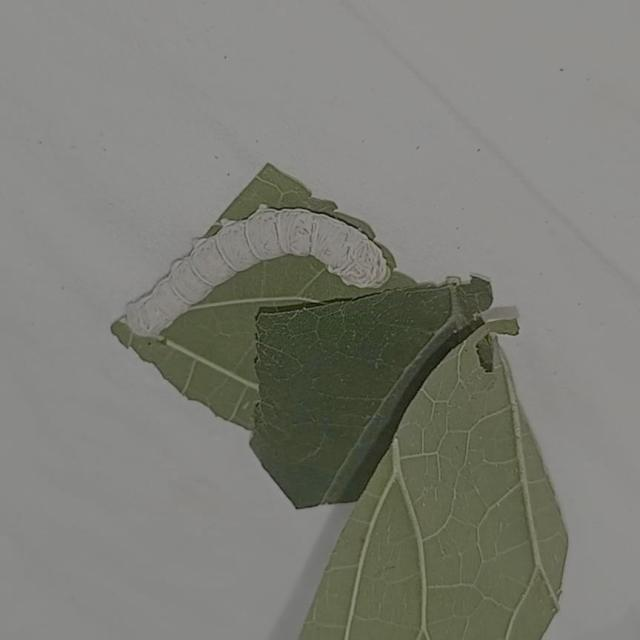Healthy: (77, 157, 425, 373)
